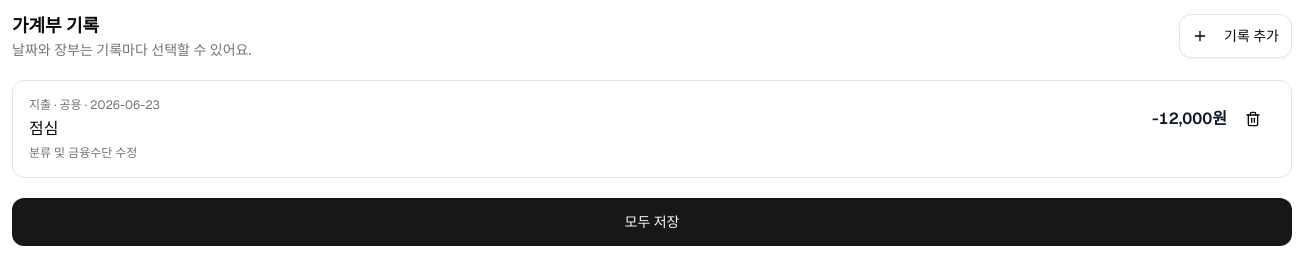
ComposerListStep › shows book-bound rows without tags and removes the selected item
Expected: the text "점심" is shown, [29, 118, 58, 139]
Expected: the text "지출 · 공용 · 2026-06-23" is shown, [29, 97, 160, 113]
Click the button named "1번째 기록 삭제" at point(1253, 119), box [1231, 97, 1275, 141]
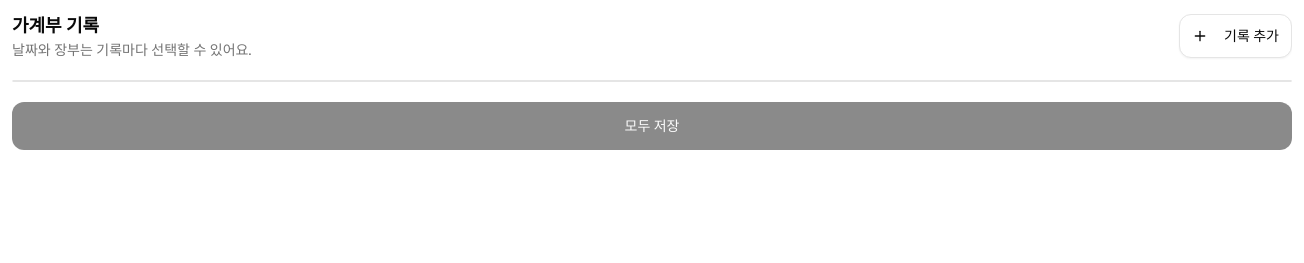
Expected: the button "점심" is gone
